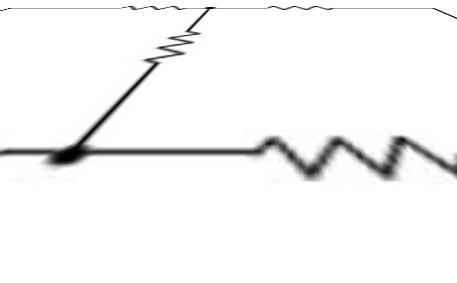resistor: (239, 112, 452, 202), (128, 20, 211, 69), (116, 2, 189, 16), (259, 4, 344, 16)
